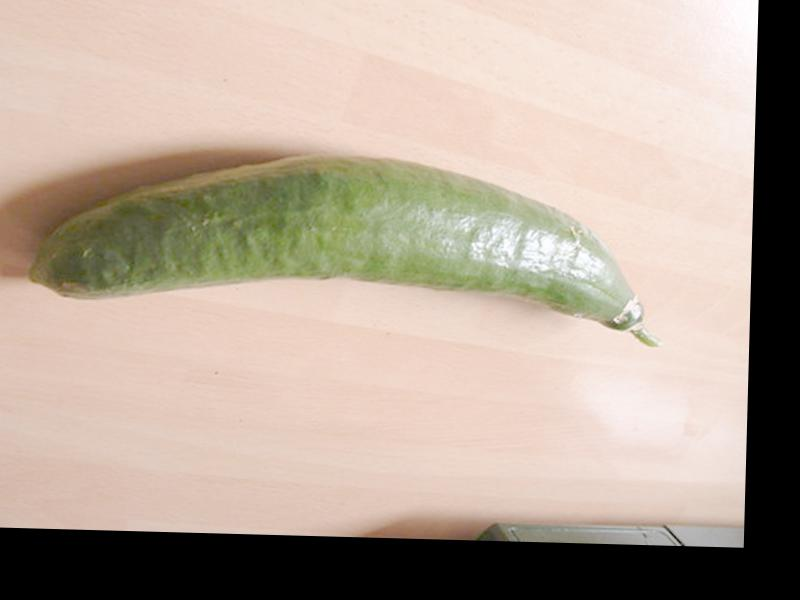Cucumber: (24, 143, 665, 346)
